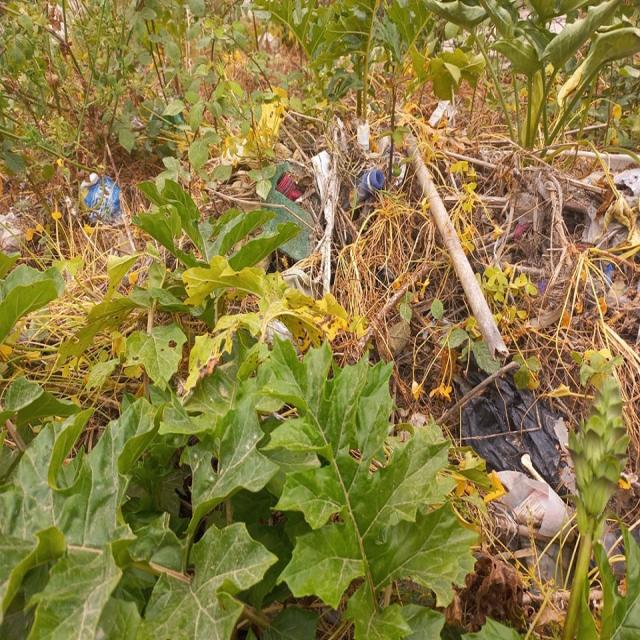Carton: (576, 165, 639, 247)
Other litter: (264, 315, 302, 352), (282, 268, 320, 297)
Other plastic: (487, 455, 574, 590), (600, 525, 639, 579), (349, 168, 383, 208), (516, 191, 542, 242), (0, 207, 24, 253), (275, 172, 303, 201), (426, 98, 449, 128), (353, 116, 372, 152), (597, 263, 616, 294)
Plastic bag - wrapper: (456, 352, 563, 482), (78, 172, 121, 224)
